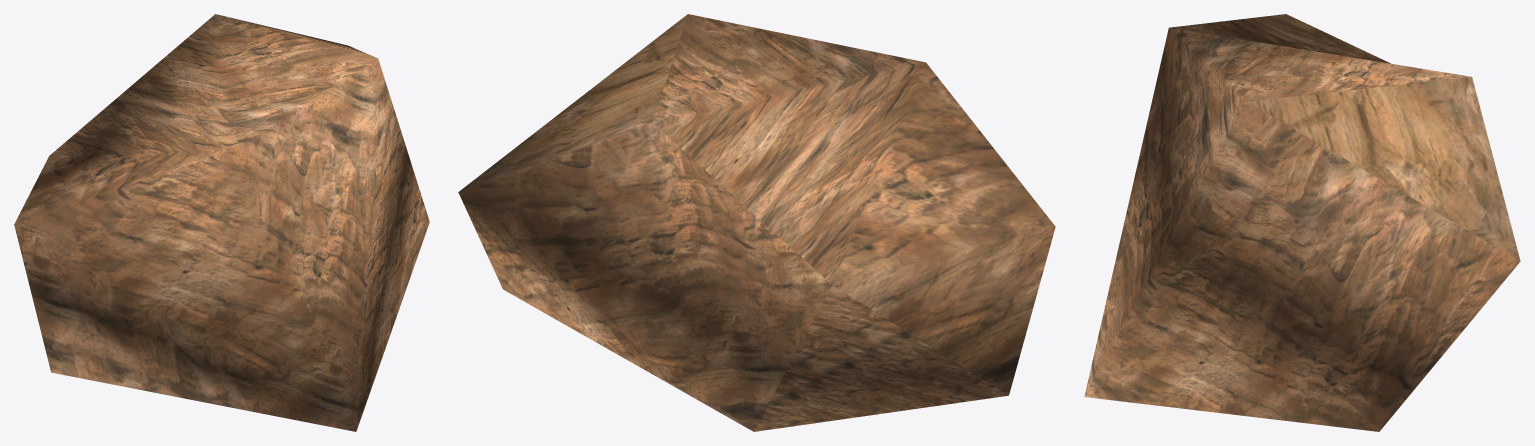
Rendered from rock_tatt_bensmesa_boulder_a5_l3.fbx.
3 renders of one model, left to right at view 1: azimuth 30°, elevation 25°; view 2: azimuth 150°, elevation 25°; view 3: azimuth 270°, elevation 25°, orthographic. The views are drawn at different scales.
Visible parts, largest first — view 1: mesh_node; view 2: mesh_node; view 3: mesh_node.
Part boxes in pixels (x1,y1,x2,y2): mesh_node: (14,14,429,431); mesh_node: (458,14,1055,431); mesh_node: (1084,14,1520,431).
Size of the model in its own units: 3.74 by 2.35 by 2.68.
